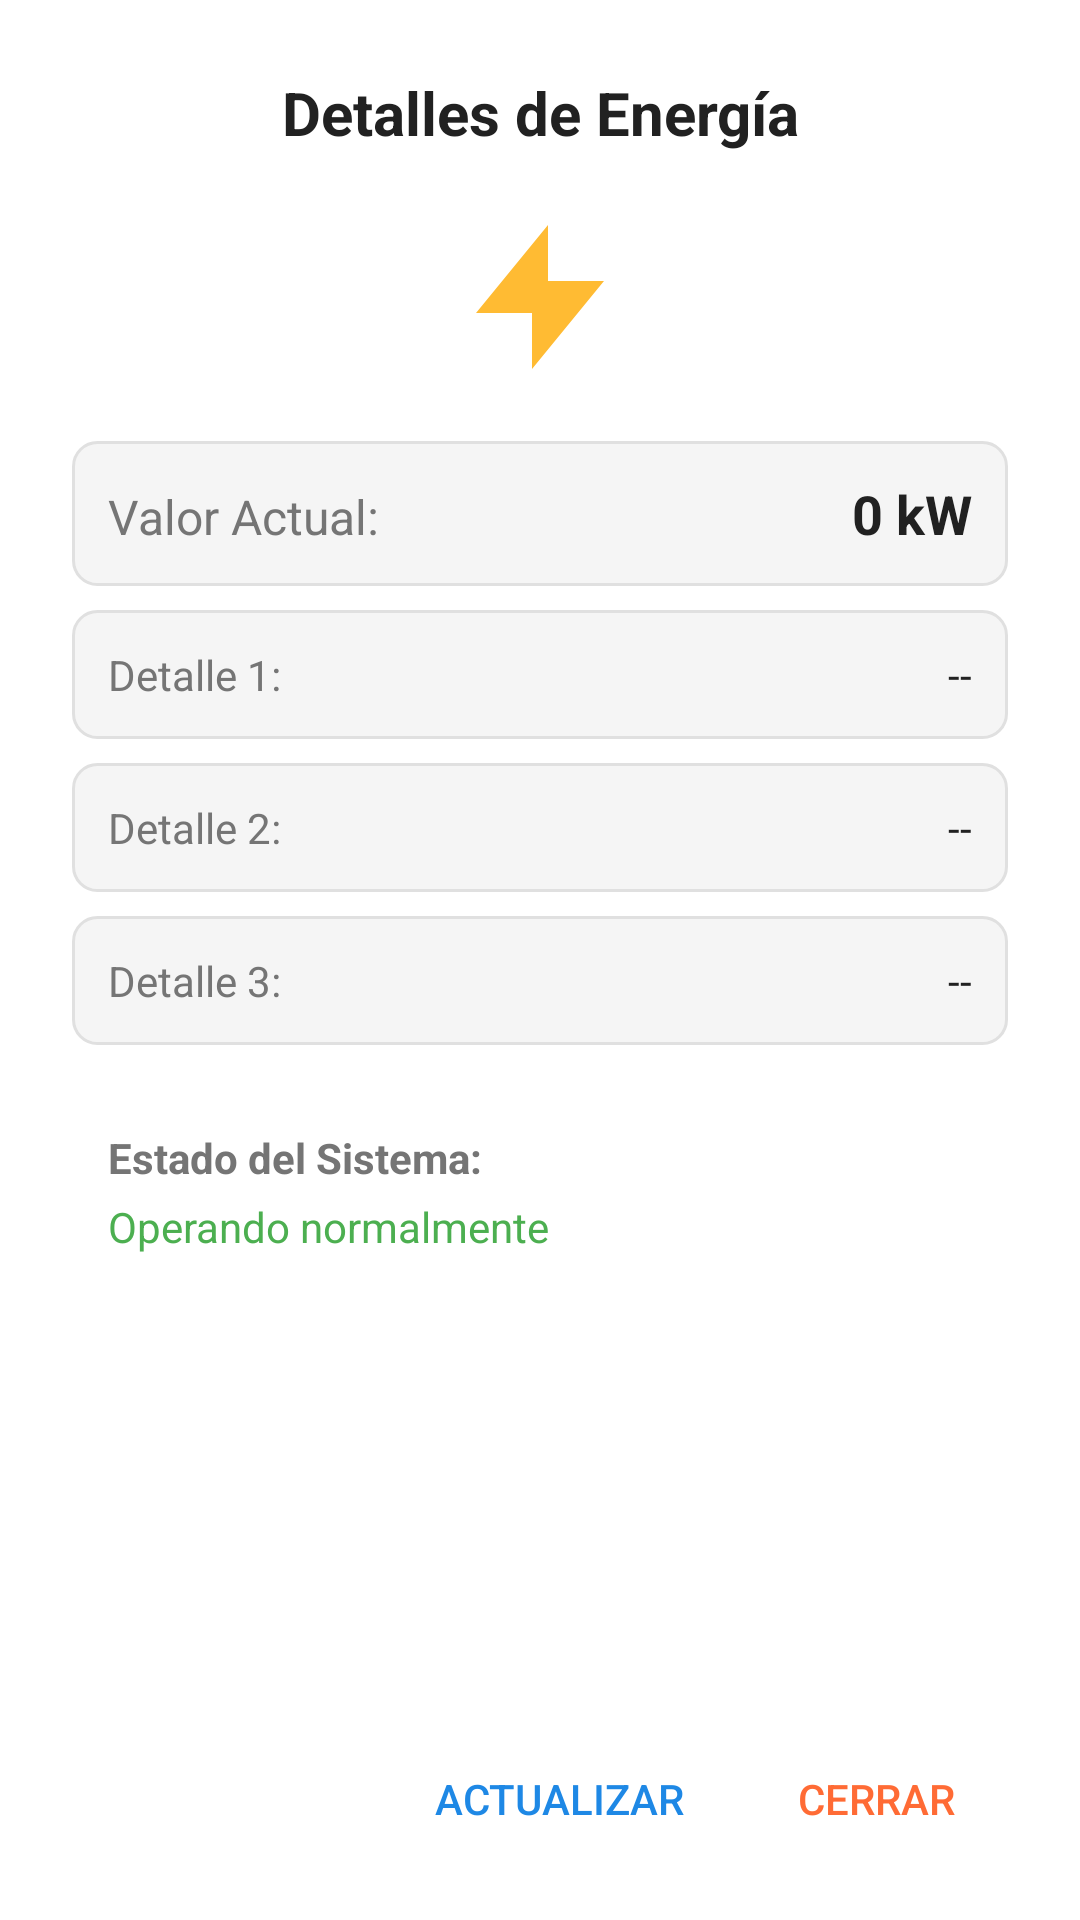

Locate icon controls on the screen. Image size 1080×1920, boxes as [x1, y1, x2, y2].
energy: [476, 225, 604, 369]
